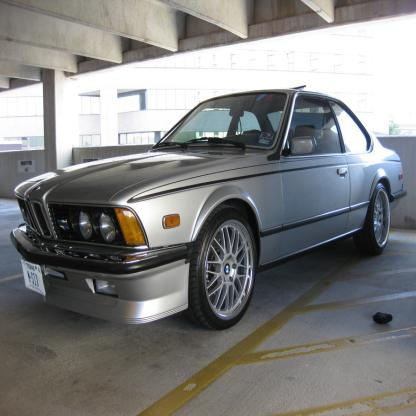Car: (11, 86, 408, 332)
